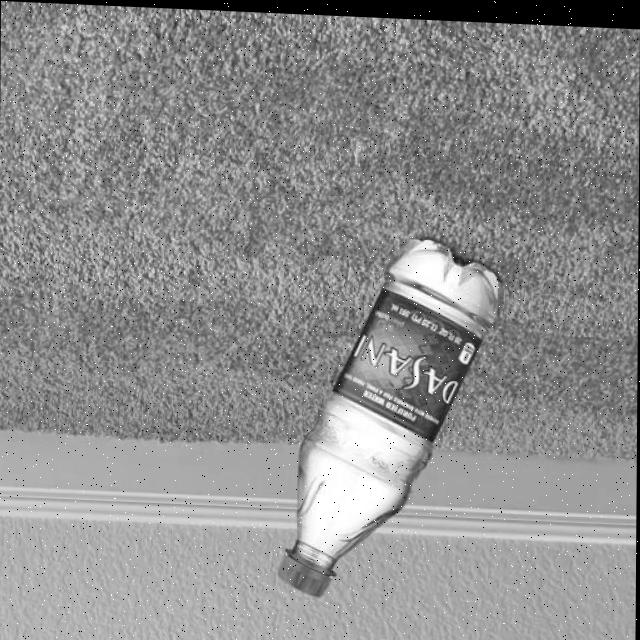bottle: (277, 229, 505, 603)
